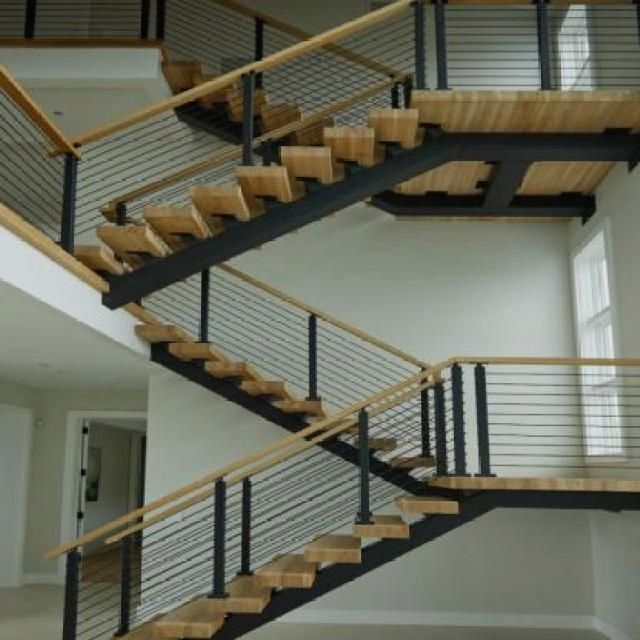stair: (30, 315, 639, 639), (79, 5, 516, 292)
